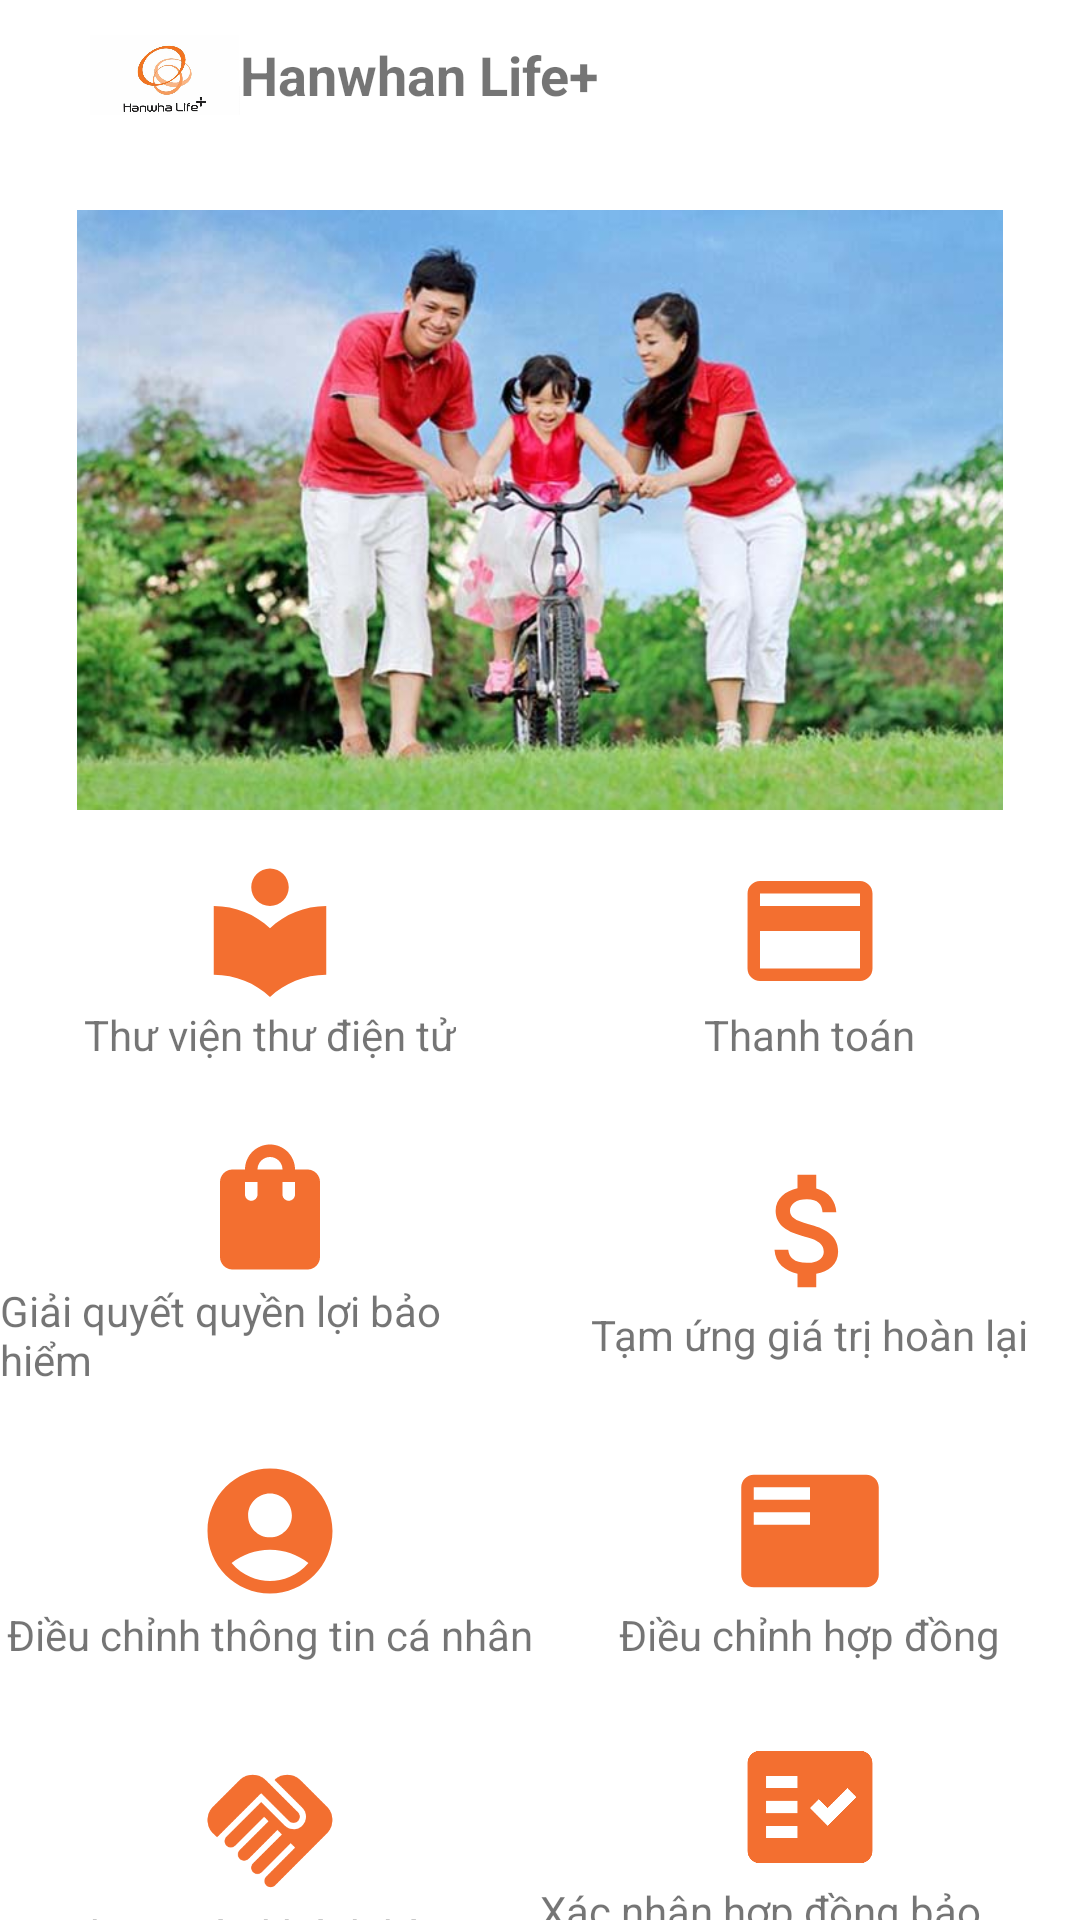

Locate icon controls on the screen. Image size 1080px x 1920px, boxes as bbox=(x1, y1, x2, y2).
account: bbox=(207, 1468, 333, 1594)
bag: bbox=(220, 1144, 320, 1270)
confirmdoc: bbox=(747, 1751, 873, 1863)
money: bbox=(774, 1174, 838, 1288)
